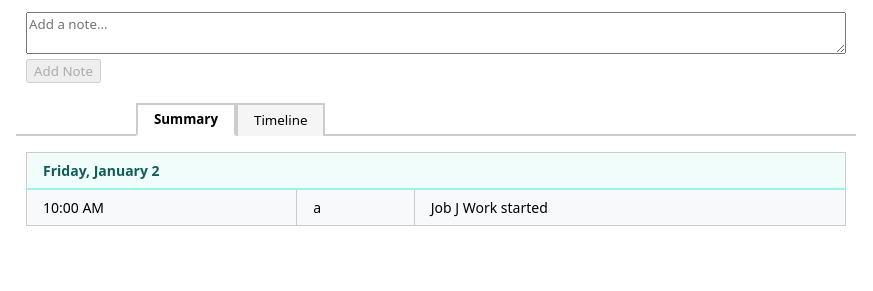
Scenario: JobHistorySection › bundles same-object changes within a minute into one section
Click the button "Timeline" at (281, 119), box [236,103,326,136]
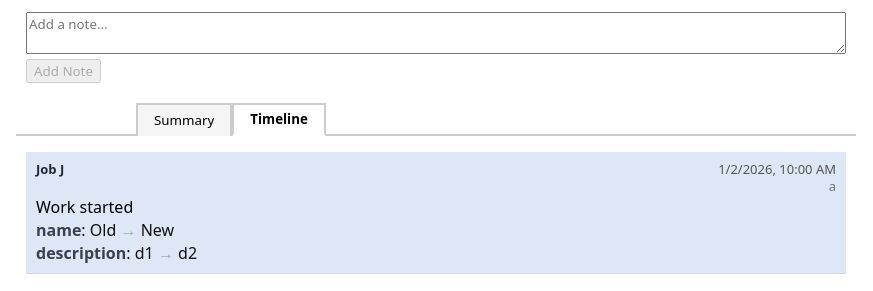
expect the number of list items with class "entry" is 1: met, box [26,152,846,274]
expect the text "name" is shown: met, box [36,219,81,241]
expect the text "description" is shown: met, box [36,242,126,264]
